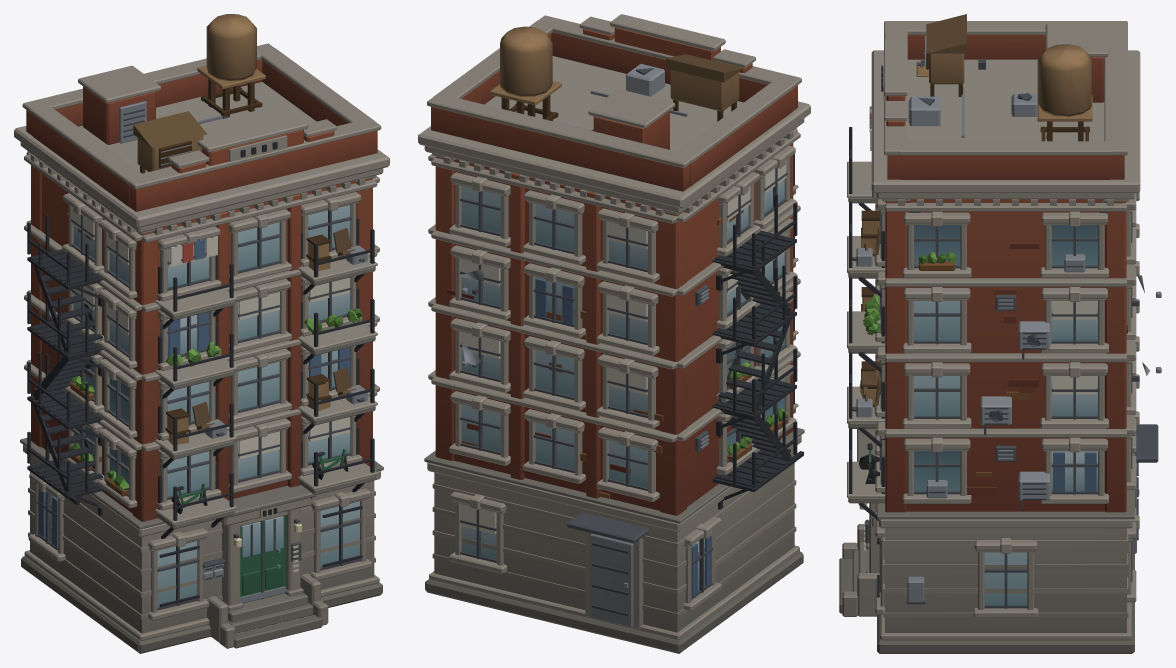
Rendered from apartment-block-01_LOD2.glb.
3 views of the same model, side by side, from view 1: azimuth 30°, elevation 25°; view 2: azimuth 150°, elevation 25°; view 3: azimuth 270°, elevation 25° (orthographic). The views are drawn at different scales.
Visible parts, largest first — view 1: apartment_block_01; view 2: apartment_block_01; view 3: apartment_block_01.
Boxes of the visible parts, x1,y1,x2,y2 form: apartment_block_01: (14,14,389,653); apartment_block_01: (418,14,810,653); apartment_block_01: (839,14,1161,653).
Bounding box in the file's own units: 7.63 × 13.27 × 6.79.
